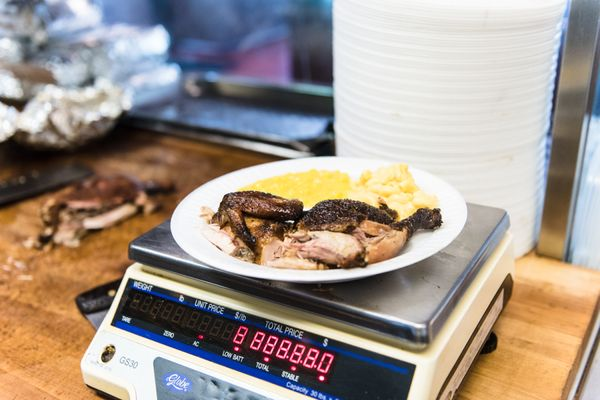soup: (212, 156, 446, 269)
